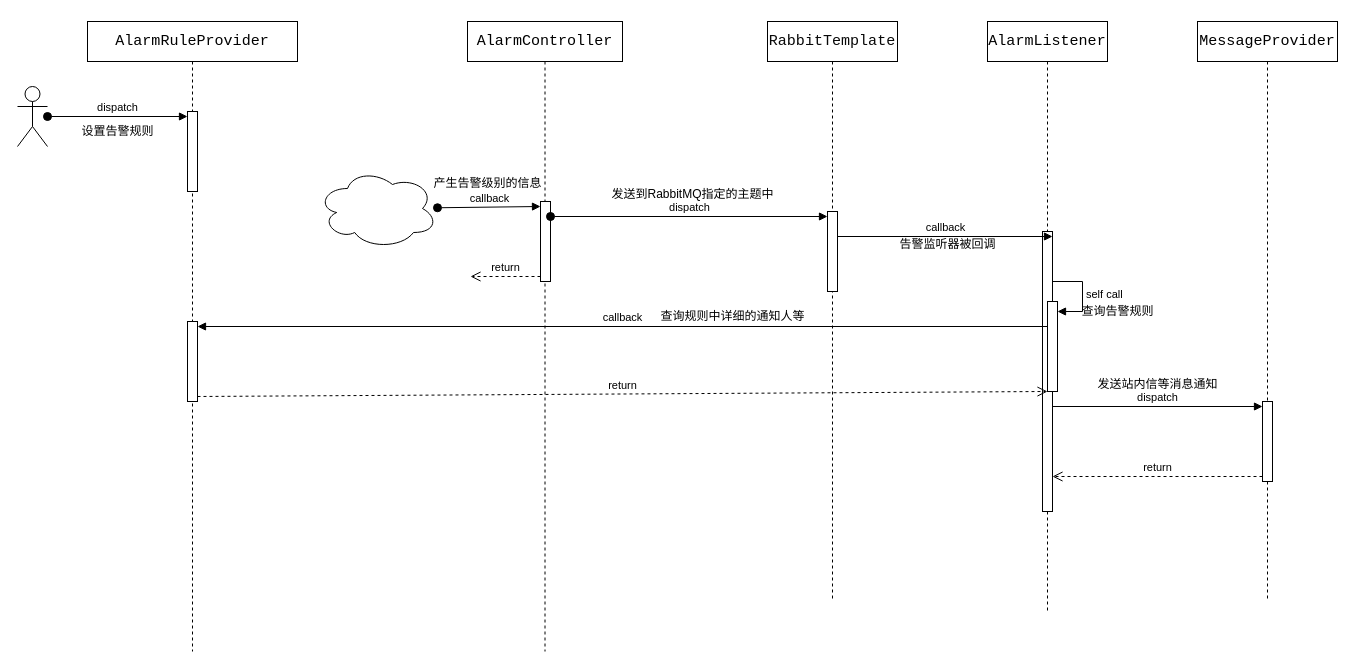
Some shapes in this 1355 by 669 pixel diagram are drawn without their labels. Each missing label, with the centre of its shape:
"Actor" goes at [32,116].
"AI视频盒子、 IoT数据分析服务" goes at [377,208].
